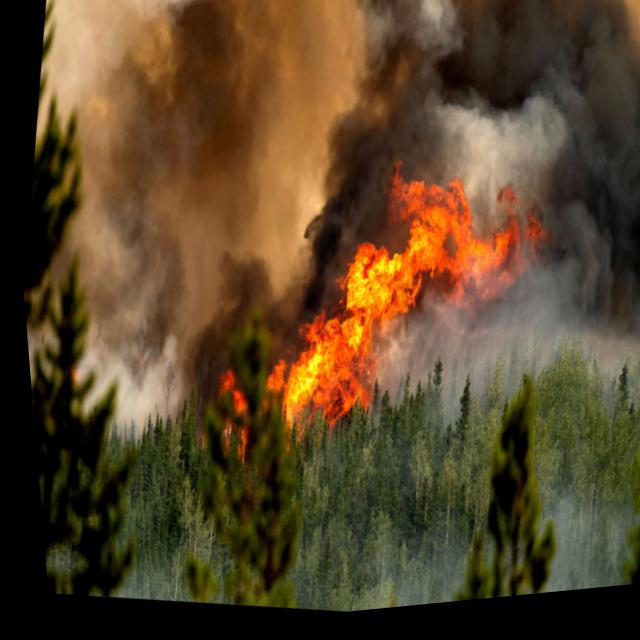Fire: (259, 138, 571, 406), (190, 343, 383, 500)
